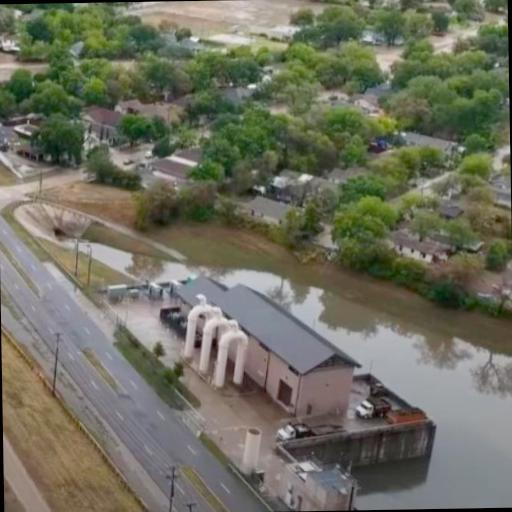flood: (91, 245, 512, 510), (183, 366, 289, 457), (112, 298, 184, 367)
house: (182, 264, 368, 422), (246, 192, 294, 238), (392, 230, 444, 268), (404, 128, 459, 162), (78, 104, 122, 145)
